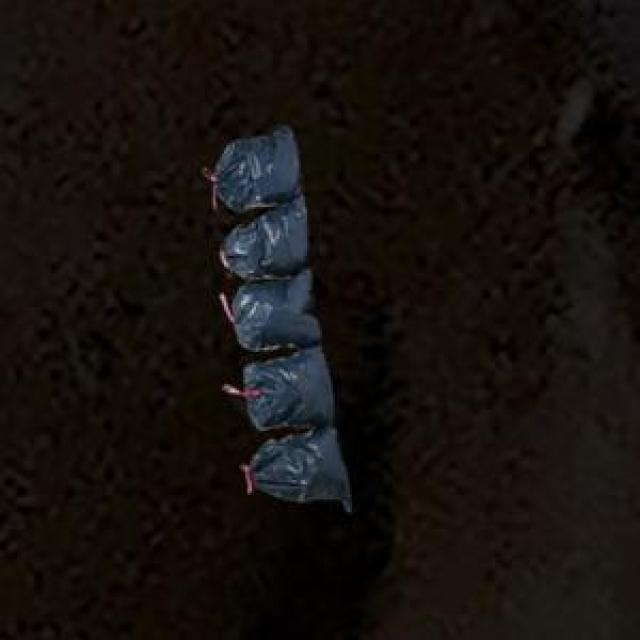miscellaneous trash: (207, 122, 346, 508)
